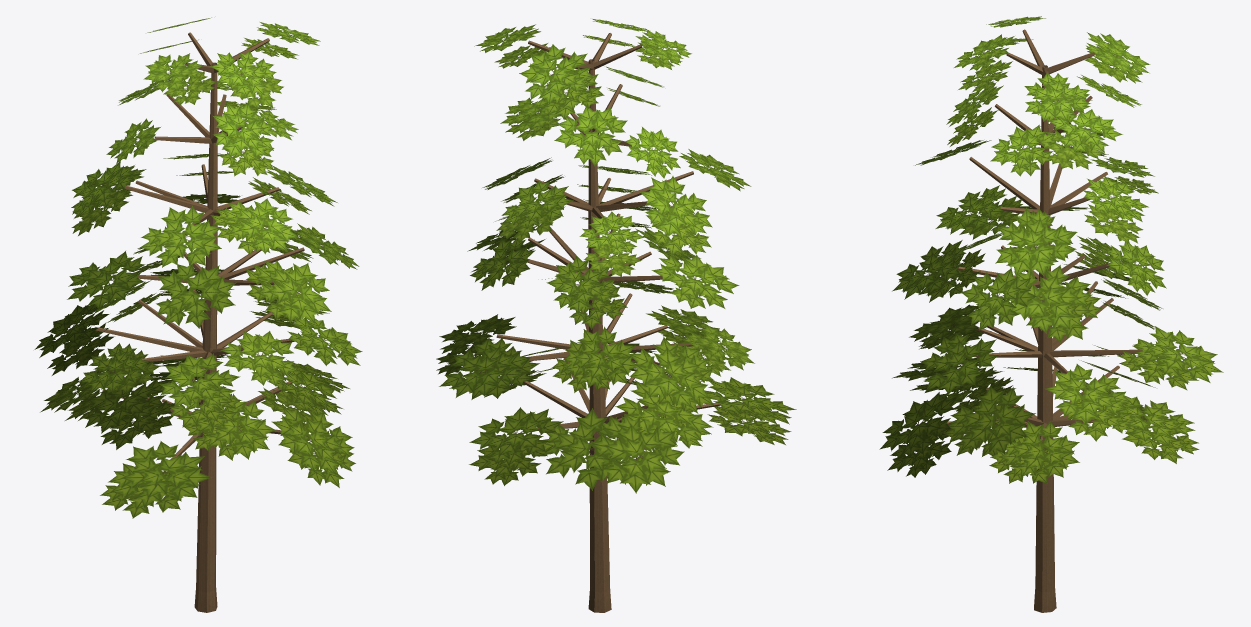
Rendered from maple2_big.glb.
3 renders of one model, left to right at view 1: azimuth 30°, elevation 25°; view 2: azimuth 150°, elevation 25°; view 3: azimuth 270°, elevation 25°, orthographic.
Parts seen in each view (by area): view 1: maple2_big; view 2: maple2_big; view 3: maple2_big.
Boxes of the visible parts, x1,y1,x2,y2 form: maple2_big: (34,17,362,612); maple2_big: (436,19,796,612); maple2_big: (879,16,1223,612).
Bounding box in the file's own units: 5.22 × 8.67 × 5.13.
Materials: 2 (2 with a texture image).
